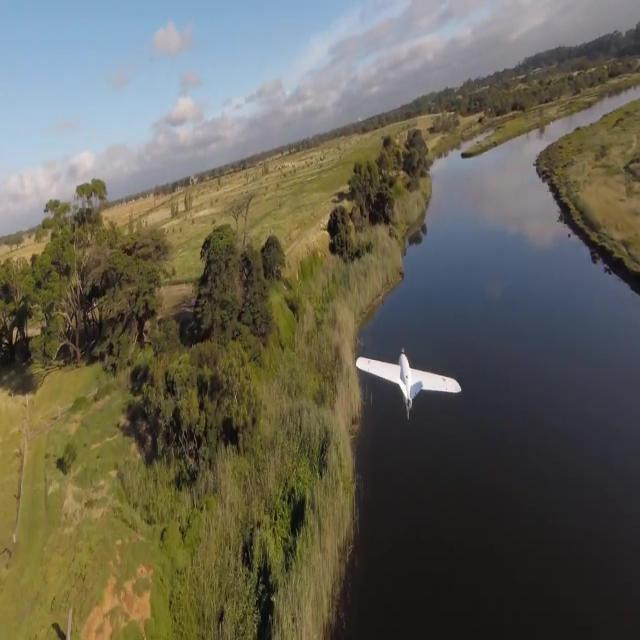iha: (386, 381, 430, 387)
